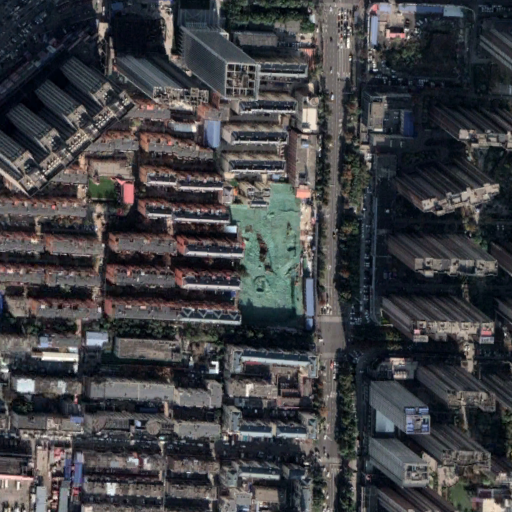cw: (224, 181, 304, 330)
